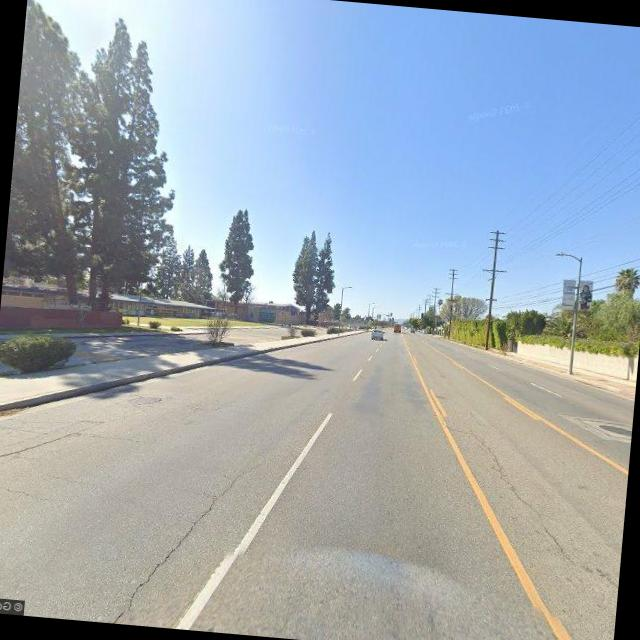pothole: (118, 440, 255, 628), (432, 404, 568, 552), (0, 418, 77, 465)
